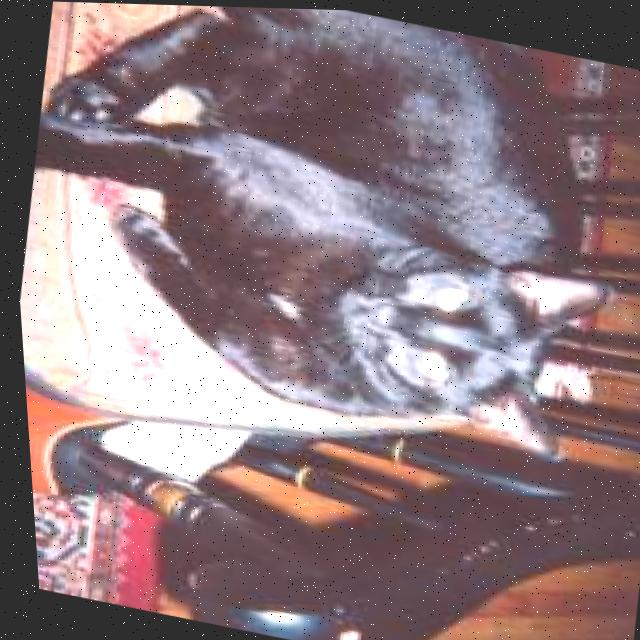Bombay: (0, 0, 640, 475)
